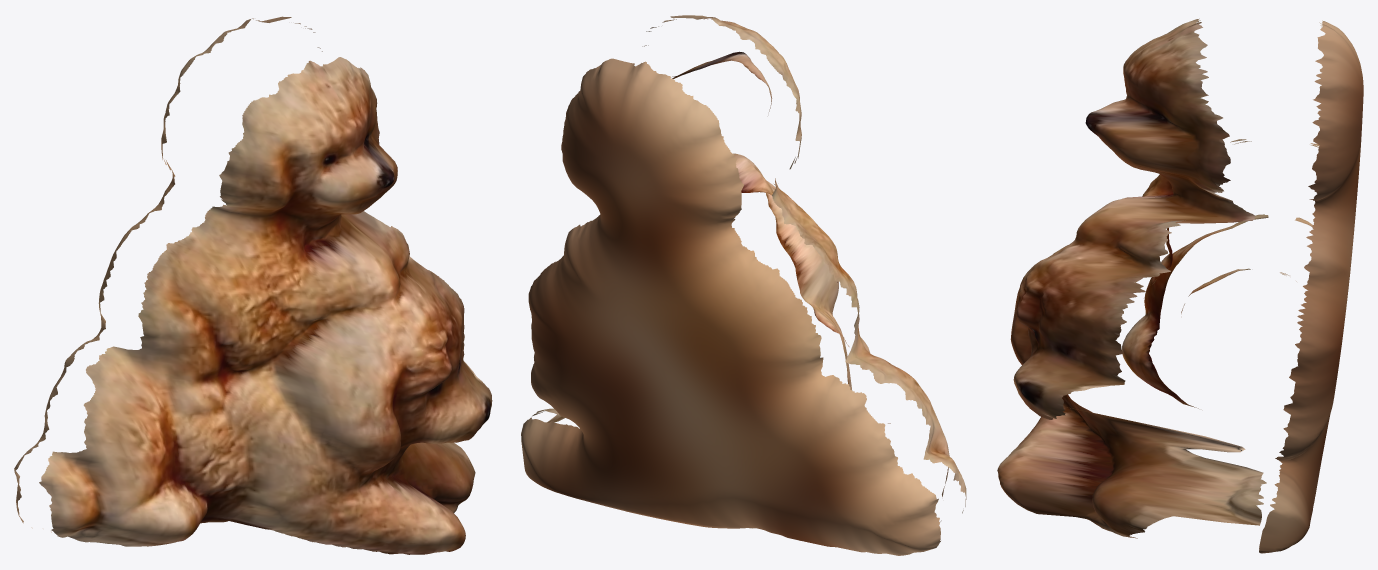
Rendered from 10-poodle-photo.glb.
3 renders of one model, left to right at view 1: azimuth 30°, elevation 25°; view 2: azimuth 150°, elevation 25°; view 3: azimuth 270°, elevation 25°, orthographic. The views are drawn at different scales.
Size of the model in its own units: 0.9933 by 1.03 by 0.7396.
1 material, 1 textured.
